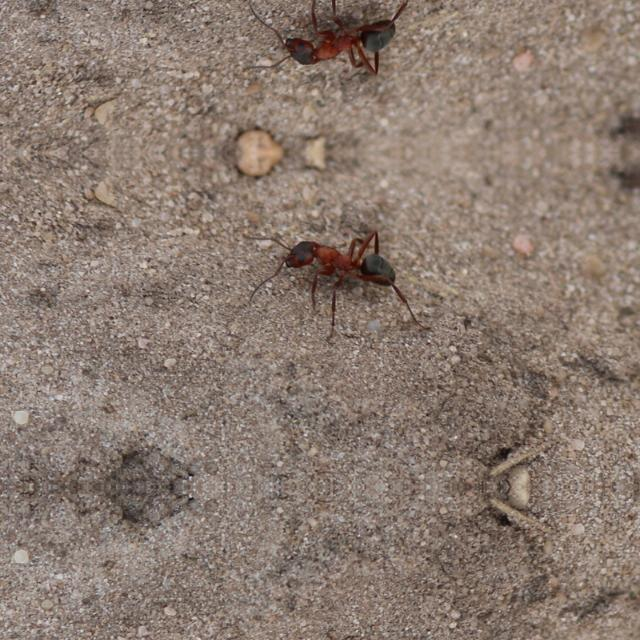Formica: (258, 212, 400, 316), (256, 0, 399, 92)
